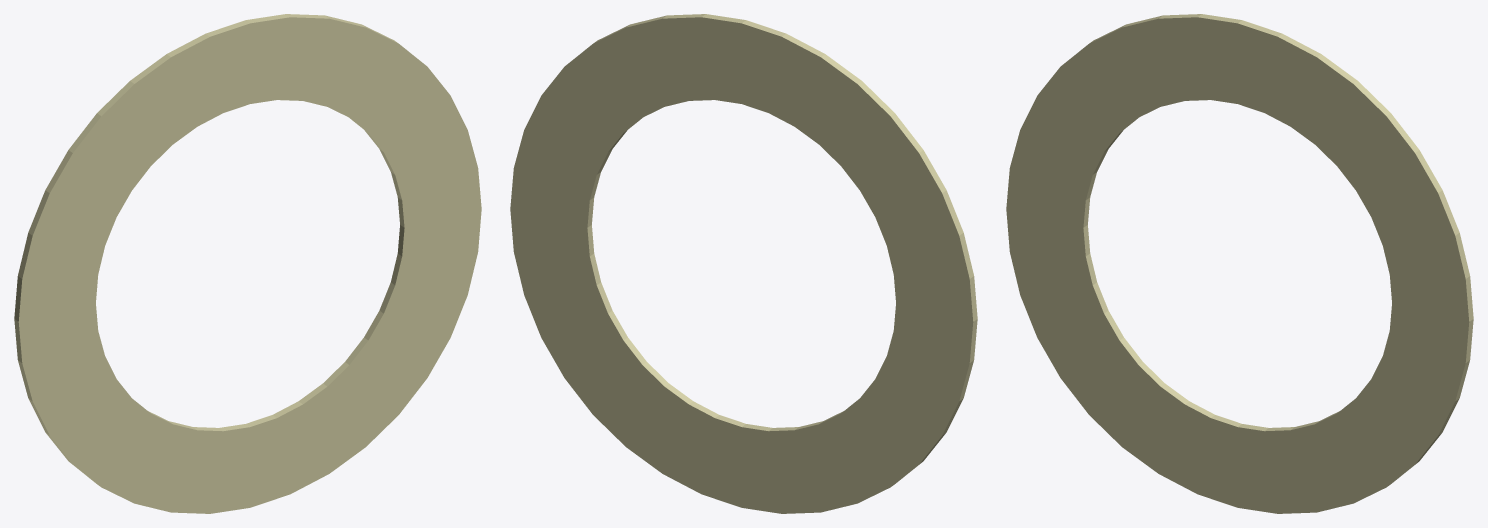
File: difference2d.glb
The picture shows the model from 3 angles, left to right: view 1: azimuth 30°, elevation 25°; view 2: azimuth 150°, elevation 25°; view 3: azimuth 330°, elevation 25°; orthographic projection.
Parts seen in each view (by area): view 1: geometry_0; view 2: geometry_0; view 3: geometry_0.
Part boxes in pixels (left/top/right/bottom): geometry_0: left=14, top=14, right=481, bottom=513; geometry_0: left=510, top=14, right=977, bottom=513; geometry_0: left=1006, top=14, right=1473, bottom=513.
Bounding box in the file's own units: 12 × 12 × 0.2.
